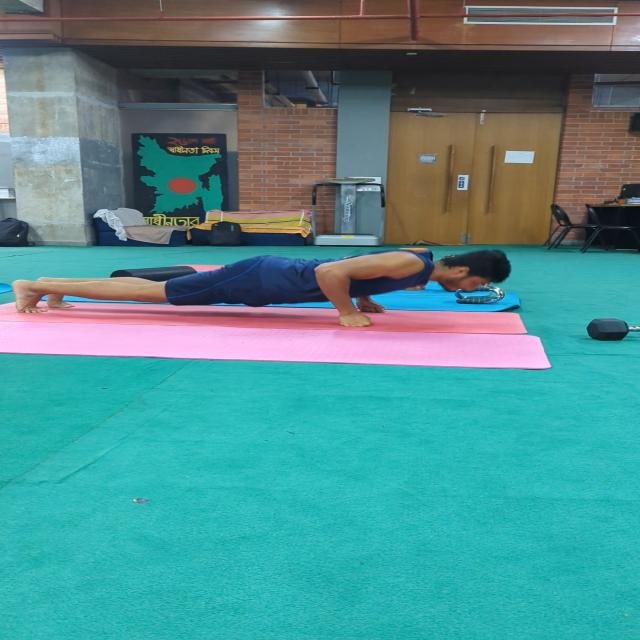Normal_PushUps: (9, 240, 521, 335)
